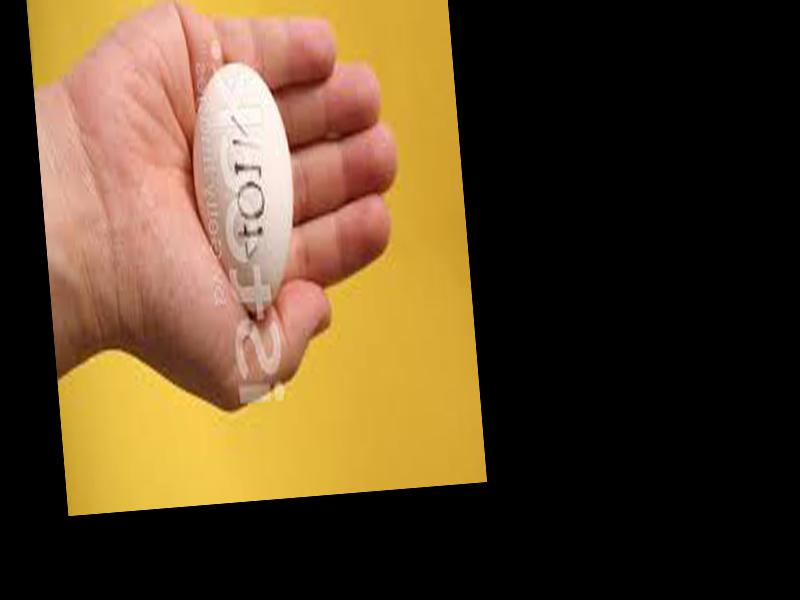Eggs: (186, 59, 302, 317)
